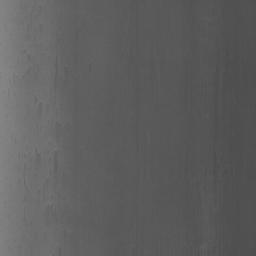Silk spot: (35, 96, 42, 115), (35, 149, 41, 164), (54, 151, 58, 173), (55, 56, 57, 90)
